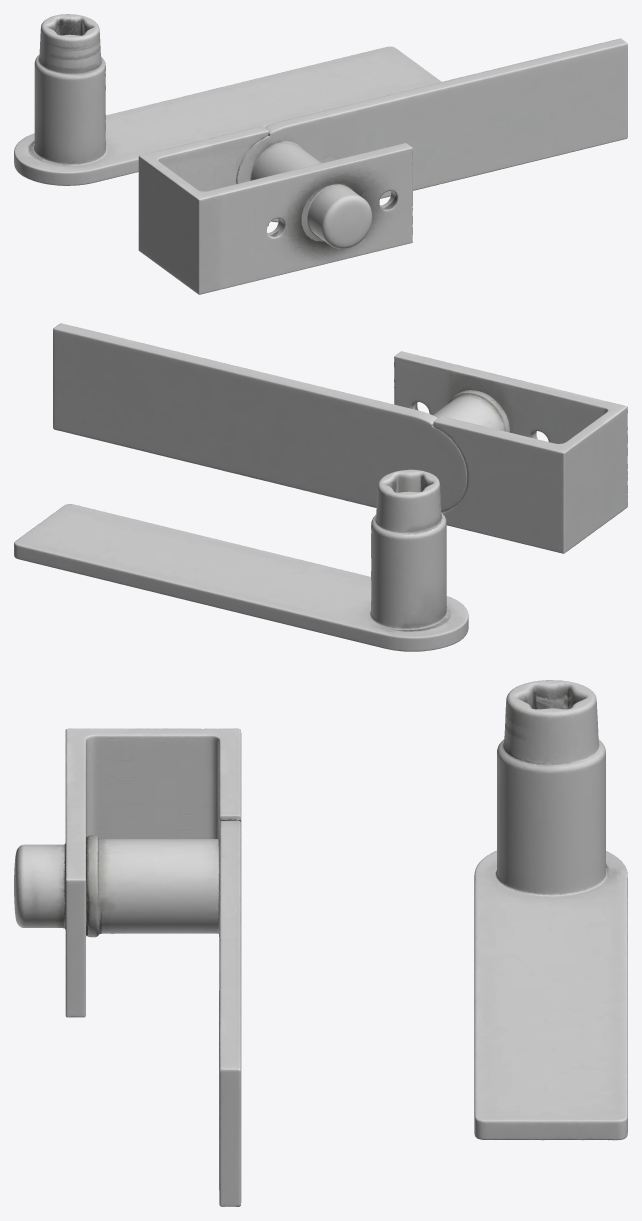
The model's file is obj-01-polizzi-handle-01.glb.
3 views of the same model, one above another, from view 1: azimuth 30°, elevation 25°; view 2: azimuth 150°, elevation 25°; view 3: azimuth 270°, elevation 25° (orthographic). The views are drawn at different scales.
Visible parts, largest first — view 1: mesh_0; view 2: mesh_0; view 3: mesh_0.
Boxes of the visible parts, <box> form: mesh_0: <box>14,14,627,294</box>; mesh_0: <box>14,323,627,651</box>; mesh_0: <box>14,680,627,1206</box>.
Size of the model in its own units: 1.9 by 0.5057 by 1.42.
1 material, 1 textured.
